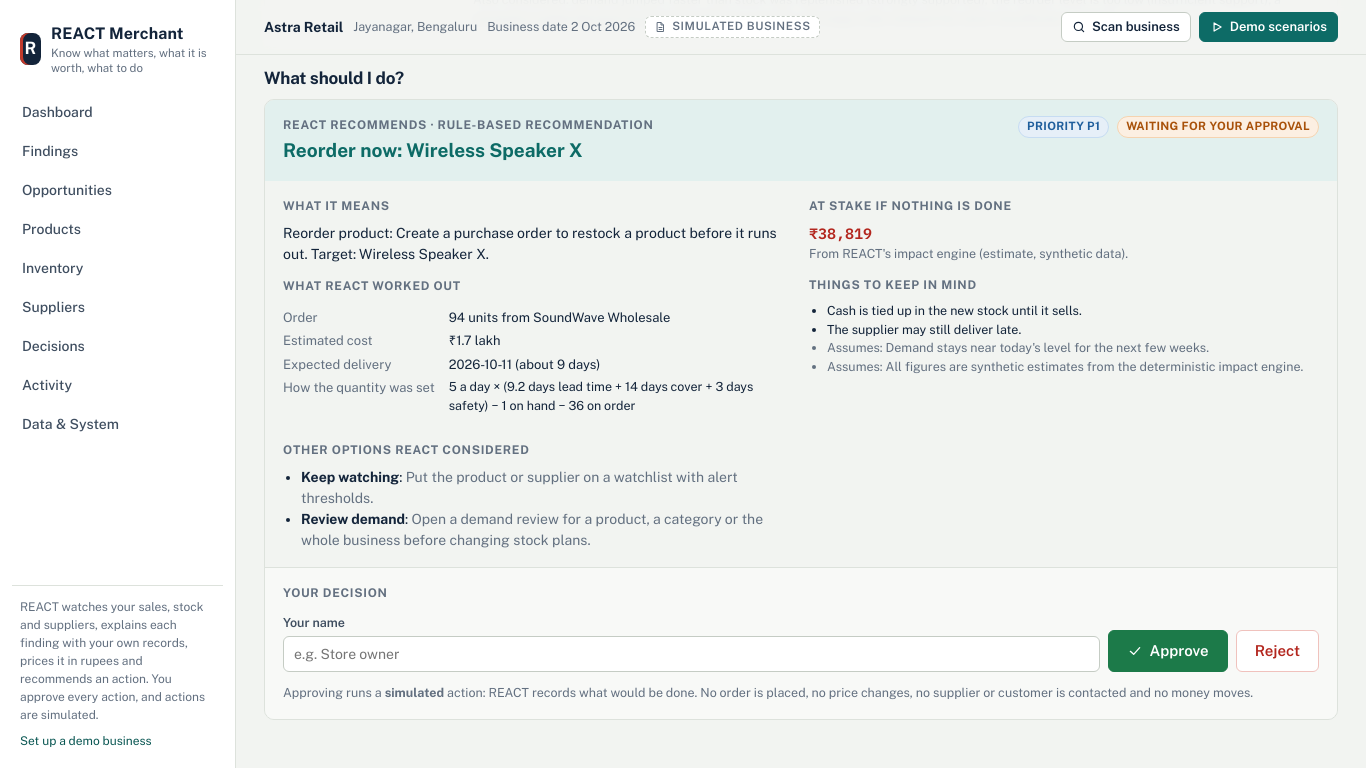
Test: Decision and approval › requires a reason to reject
(page scrolled)
Step 1. Type "Test reviewer" into the field labelled "Your name" → {"x": 692, "y": 654}, box x1=283 y1=636 x2=1100 y2=672
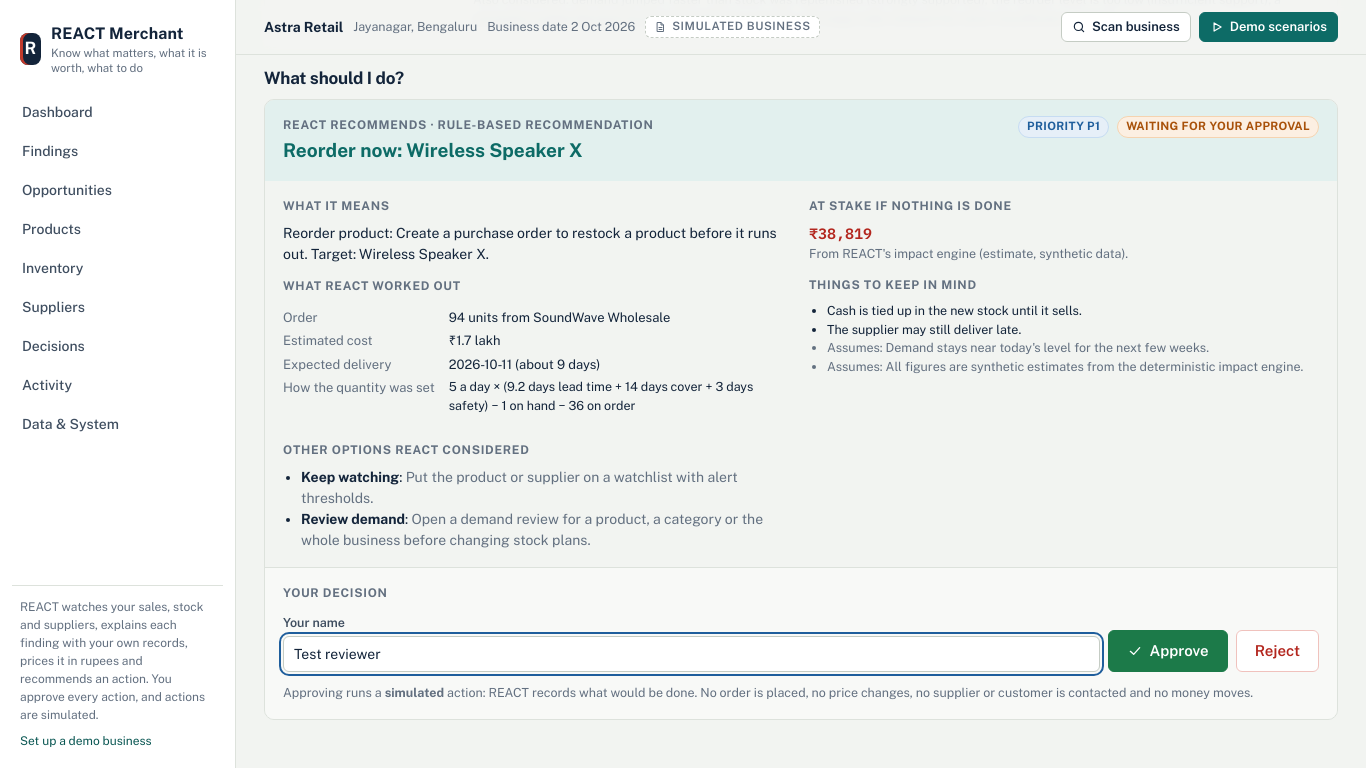
Step 2. Click the button "Reject" → {"x": 1277, "y": 651}, box x1=1236 y1=630 x2=1319 y2=672
(page scrolled)
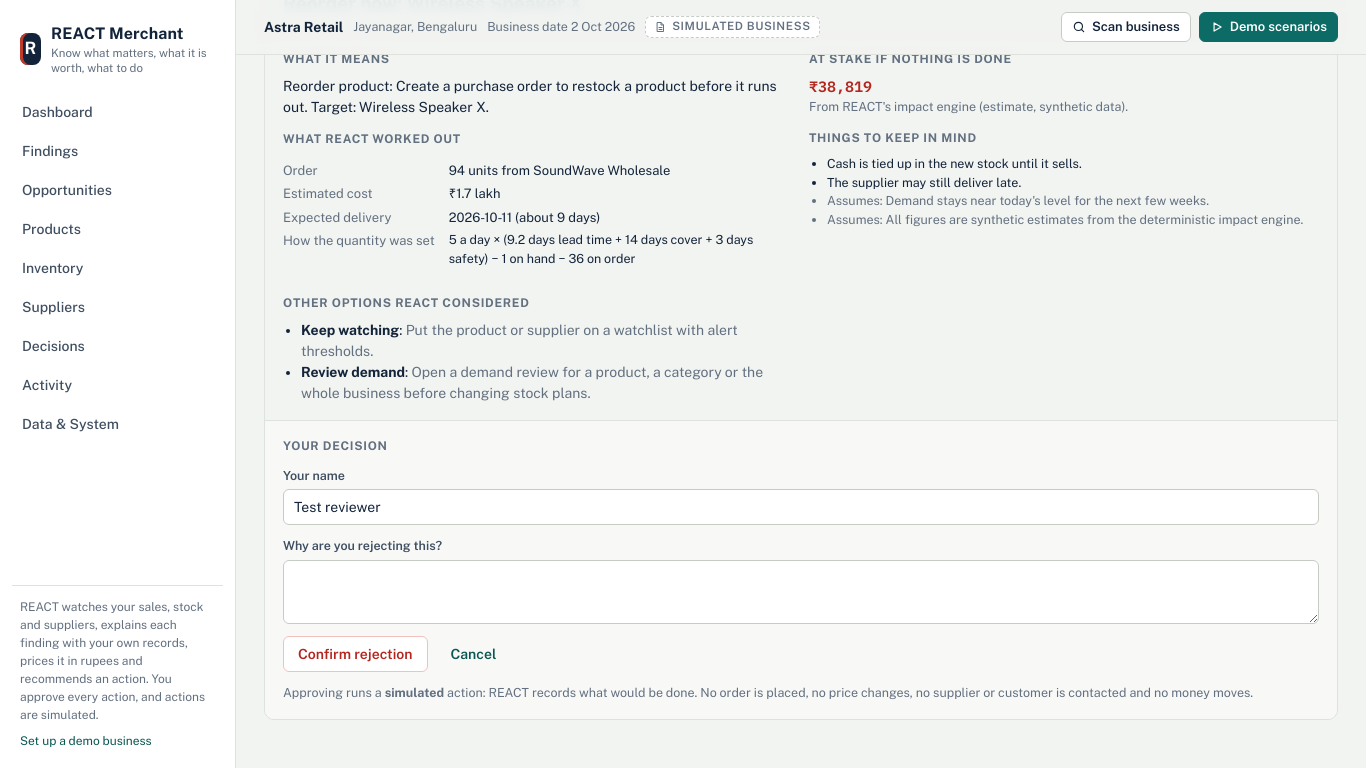
Step 3. Click the button "Confirm rejection" → {"x": 355, "y": 654}, box x1=283 y1=636 x2=428 y2=672
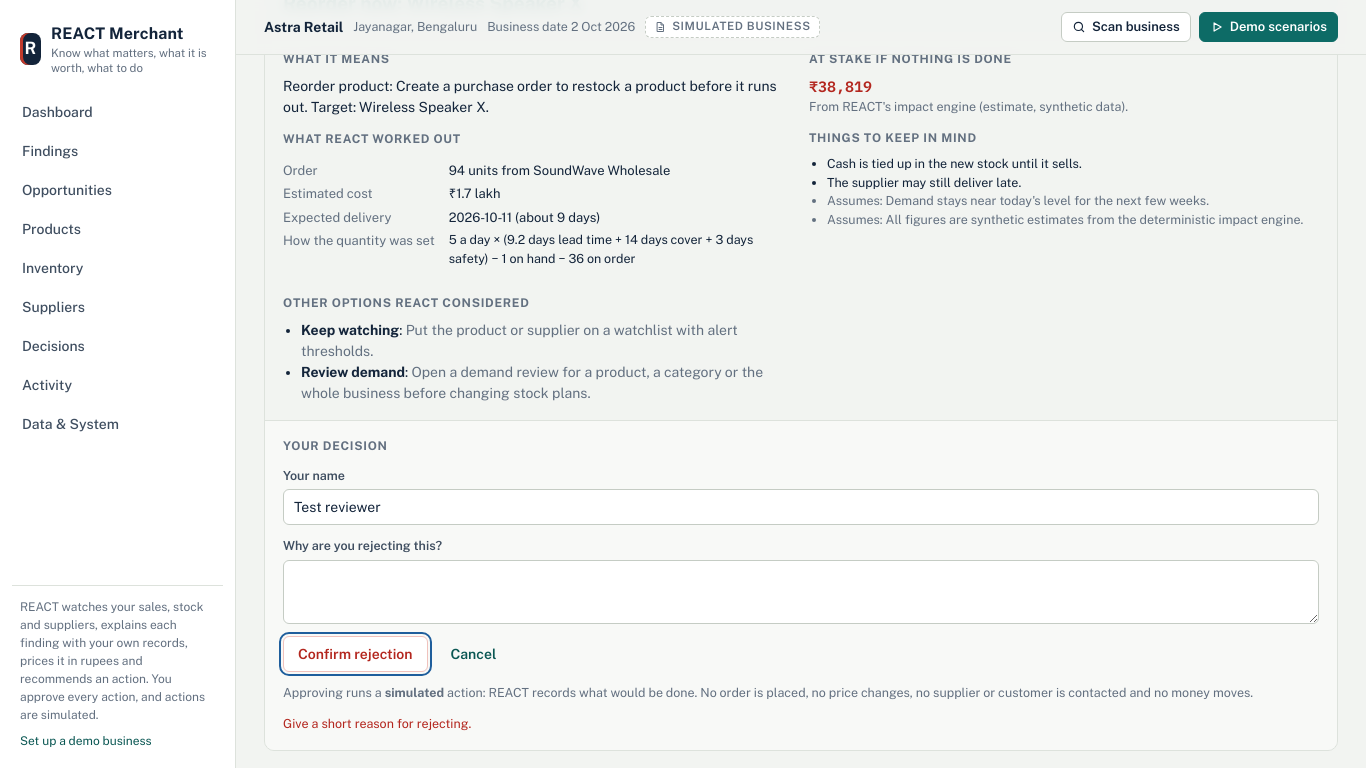
expect the message shows "reason": met, box x1=283 y1=716 x2=471 y2=731
